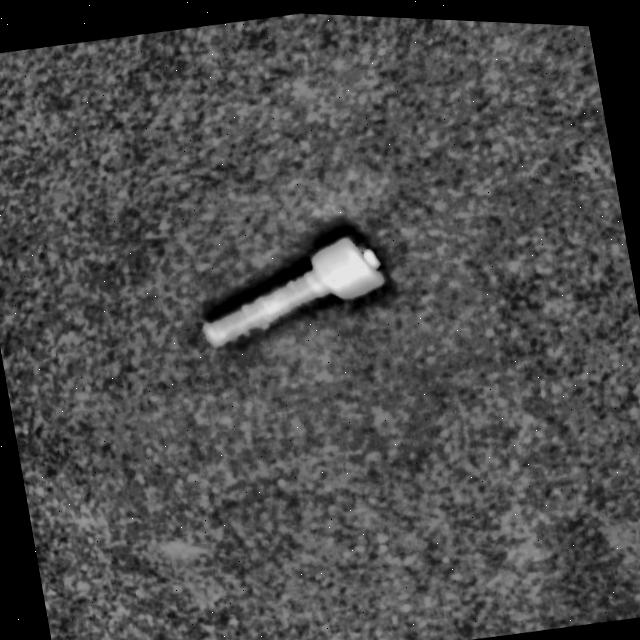Socket head cap screw: (185, 212, 398, 357)
